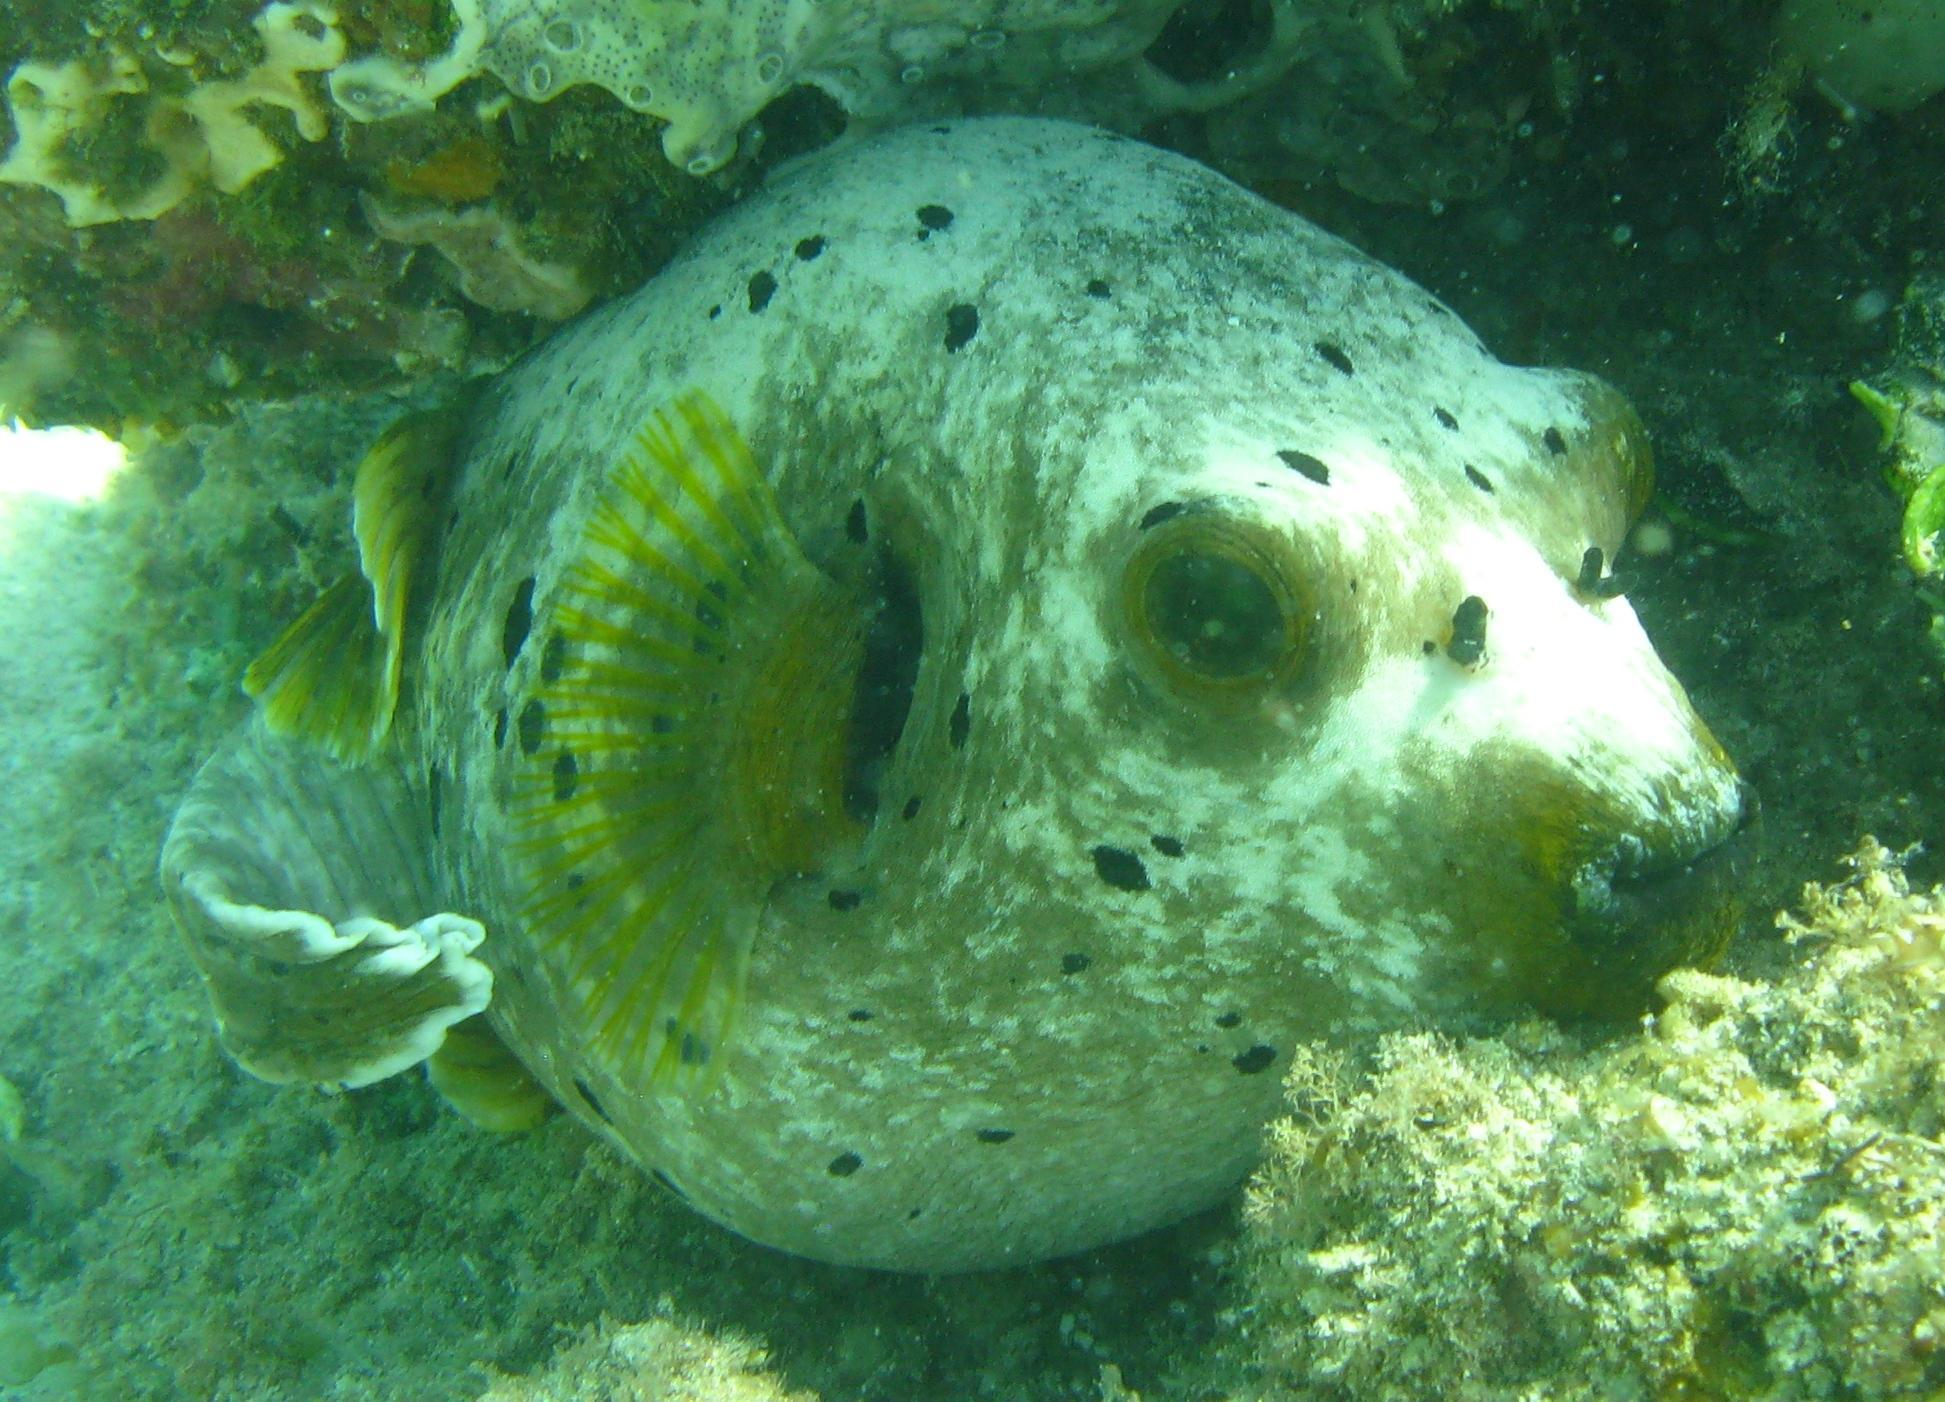Fish: (0, 6, 1945, 1323)
